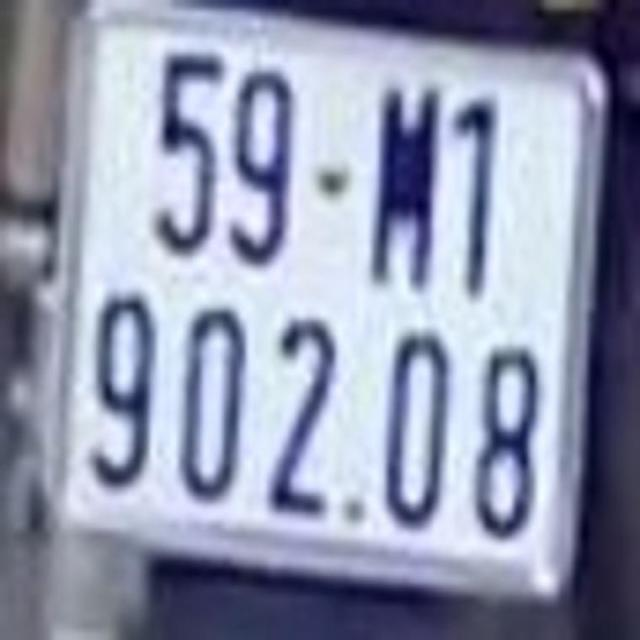0: (381, 325, 448, 530), (178, 302, 246, 502)
1: (452, 93, 500, 298)
2: (267, 311, 334, 518)
5: (151, 46, 222, 256)
8: (474, 343, 538, 540)
9: (228, 62, 294, 267), (89, 292, 154, 489)
M: (372, 78, 441, 293)
